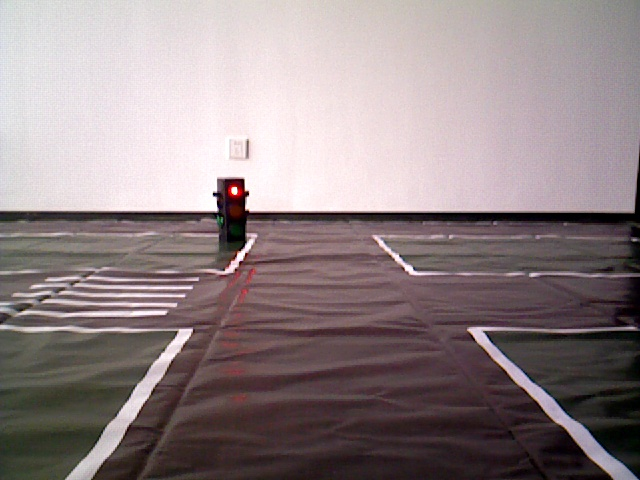red: (218, 179, 243, 247)
